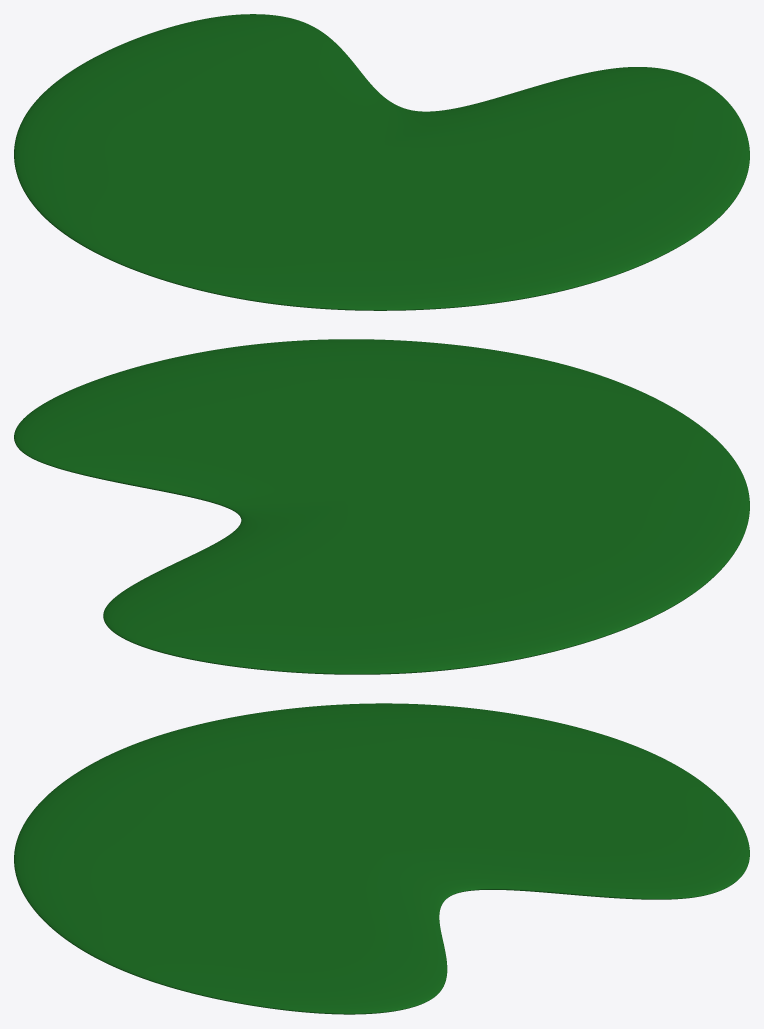
File: 蓮の葉.fbx
The picture shows the model from 3 angles, top to bottom: view 1: azimuth 30°, elevation 25°; view 2: azimuth 150°, elevation 25°; view 3: azimuth 270°, elevation 25°; orthographic projection. The views are drawn at different scales.
Visible parts, largest first — view 1: 蓮の葉; view 2: 蓮の葉; view 3: 蓮の葉.
Part boxes in pixels (x1,y1,x2,y2): 蓮の葉: [14, 14, 749, 310]; 蓮の葉: [14, 339, 749, 674]; 蓮の葉: [14, 703, 749, 1014].
Size of the model in its own units: 174 by 3.91 by 174.
